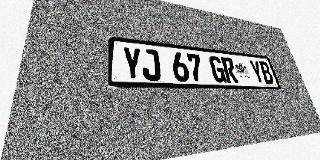6: (171, 52, 190, 82)
7: (186, 53, 205, 82)
B: (258, 61, 275, 84)
G: (208, 56, 227, 83)
J: (141, 48, 161, 81)
R: (221, 57, 239, 83)
Y: (122, 46, 143, 80), (248, 60, 266, 84)
